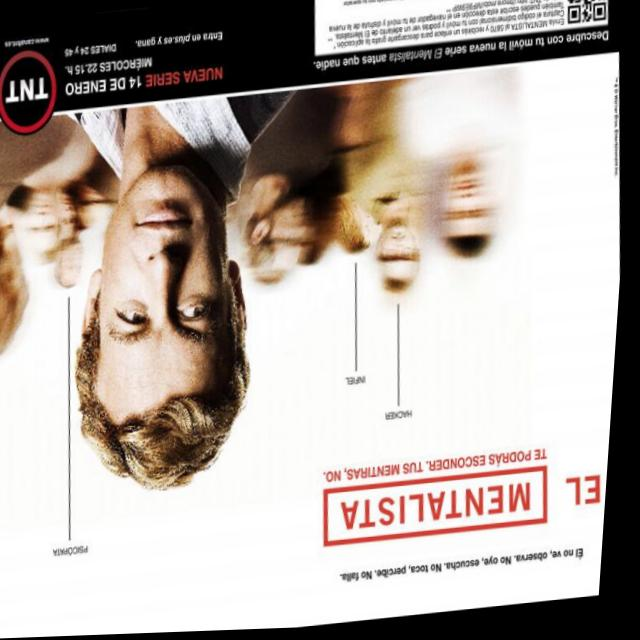qrcode: (565, 1, 608, 28)
